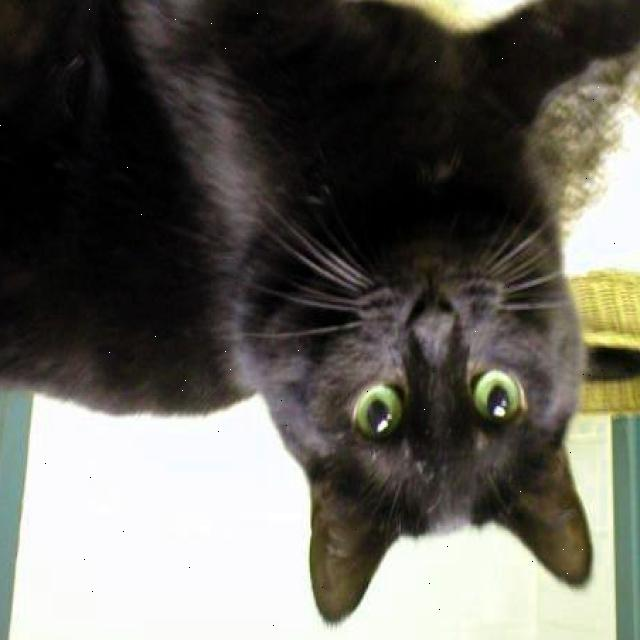Cat: (235, 172, 610, 600)
